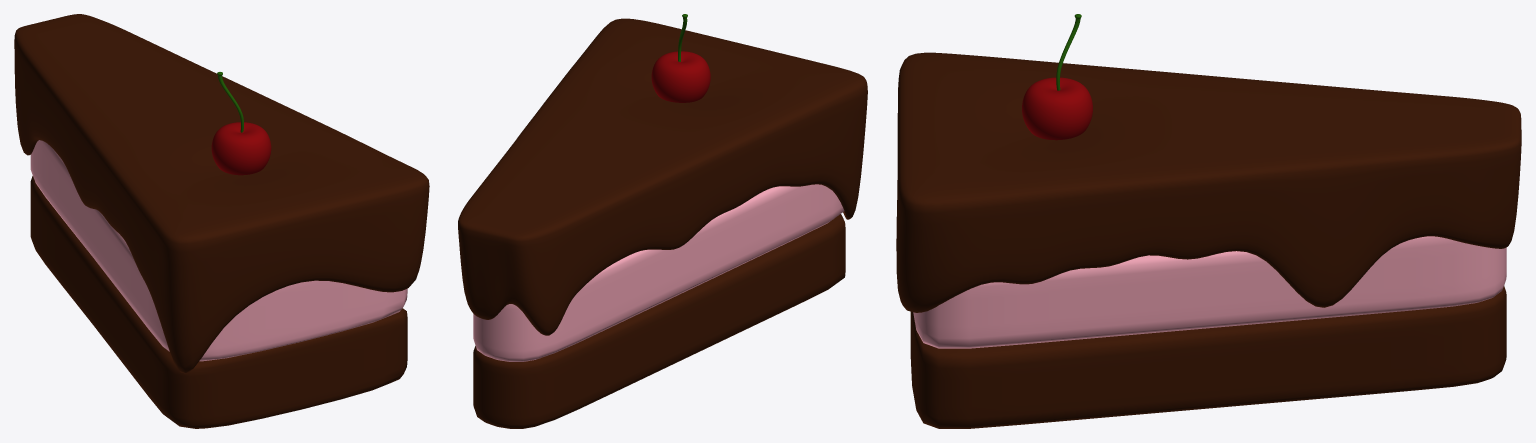
The model's file is Kek.fbx.
The picture shows the model from 3 angles, left to right: view 1: azimuth 30°, elevation 25°; view 2: azimuth 150°, elevation 25°; view 3: azimuth 270°, elevation 25°; orthographic projection. The views are drawn at different scales.
Parts seen in each view (by area): view 1: cikolatakrema, tabankek, arakrema, kiraz; view 2: cikolatakrema, tabankek, arakrema, kiraz; view 3: cikolatakrema, tabankek, arakrema, kiraz.
Part boxes in pixels (x1,y1,x2,y2): cikolatakrema: (14, 14, 429, 373); tabankek: (30, 176, 407, 428); arakrema: (30, 140, 407, 361); kiraz: (211, 122, 271, 175); cikolatakrema: (458, 18, 867, 335); tabankek: (473, 214, 845, 428); arakrema: (473, 184, 844, 361); kiraz: (651, 51, 710, 102); cikolatakrema: (896, 52, 1521, 312); tabankek: (910, 286, 1506, 428); arakrema: (913, 236, 1506, 348); kiraz: (1022, 77, 1092, 140).
Bounding box in the file's own units: 155 × 166 × 270.
